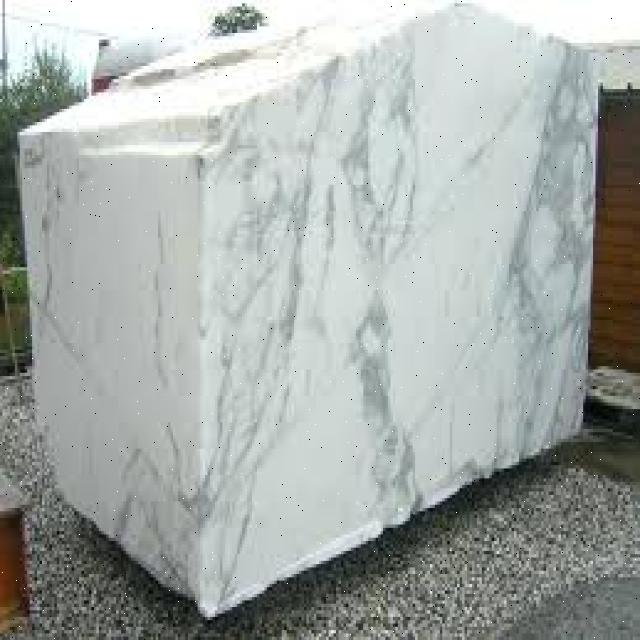Metamorphic: (12, 3, 610, 571)
